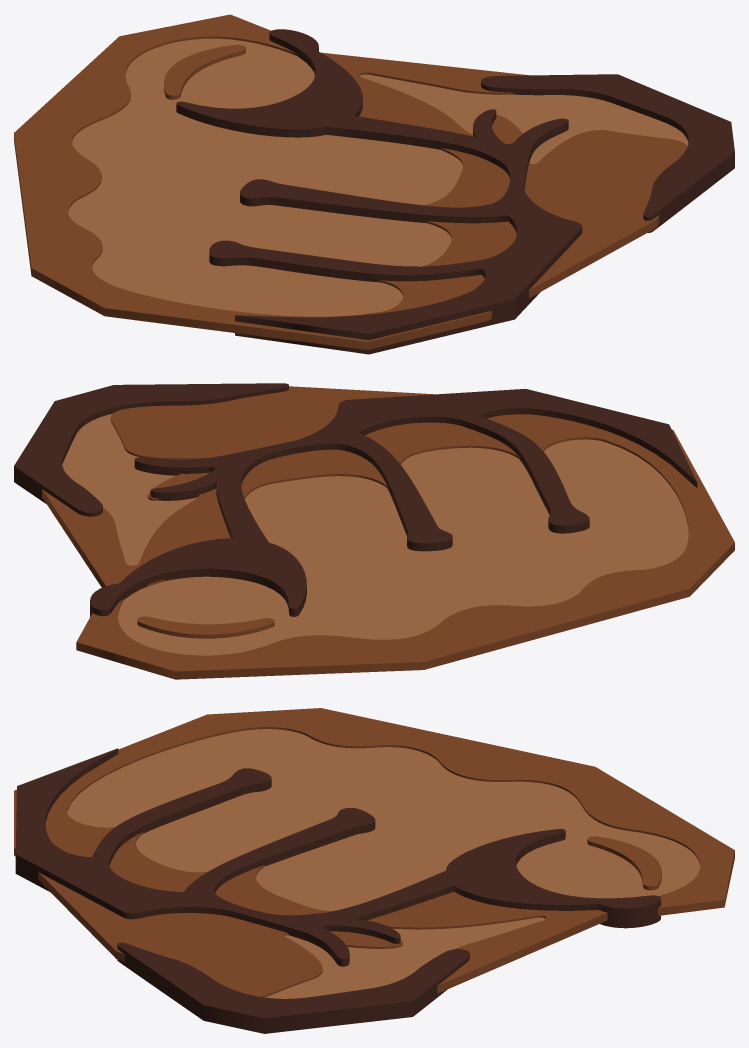
The model's file is emoji_u1faf5_1f3fe.glb.
The picture shows the model from 3 angles, top to bottom: view 1: azimuth 30°, elevation 25°; view 2: azimuth 150°, elevation 25°; view 3: azimuth 270°, elevation 25°; orthographic projection. The views are drawn at different scales.
Parts seen in each view (by area): view 1: emoji_u1faf5_1f3fe; view 2: emoji_u1faf5_1f3fe; view 3: emoji_u1faf5_1f3fe.
Part boxes in pixels (x1,y1,x2,y2): emoji_u1faf5_1f3fe: [14, 14, 734, 354]; emoji_u1faf5_1f3fe: [14, 383, 734, 679]; emoji_u1faf5_1f3fe: [14, 708, 734, 1033].
Bounding box in the file's own units: 0.0344 × 0.001 × 0.0333.
